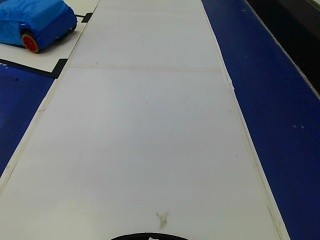car: (0, 0, 79, 54)
